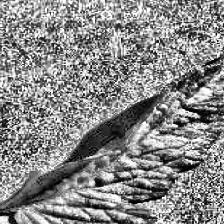leaf mold: (10, 36, 224, 224)
